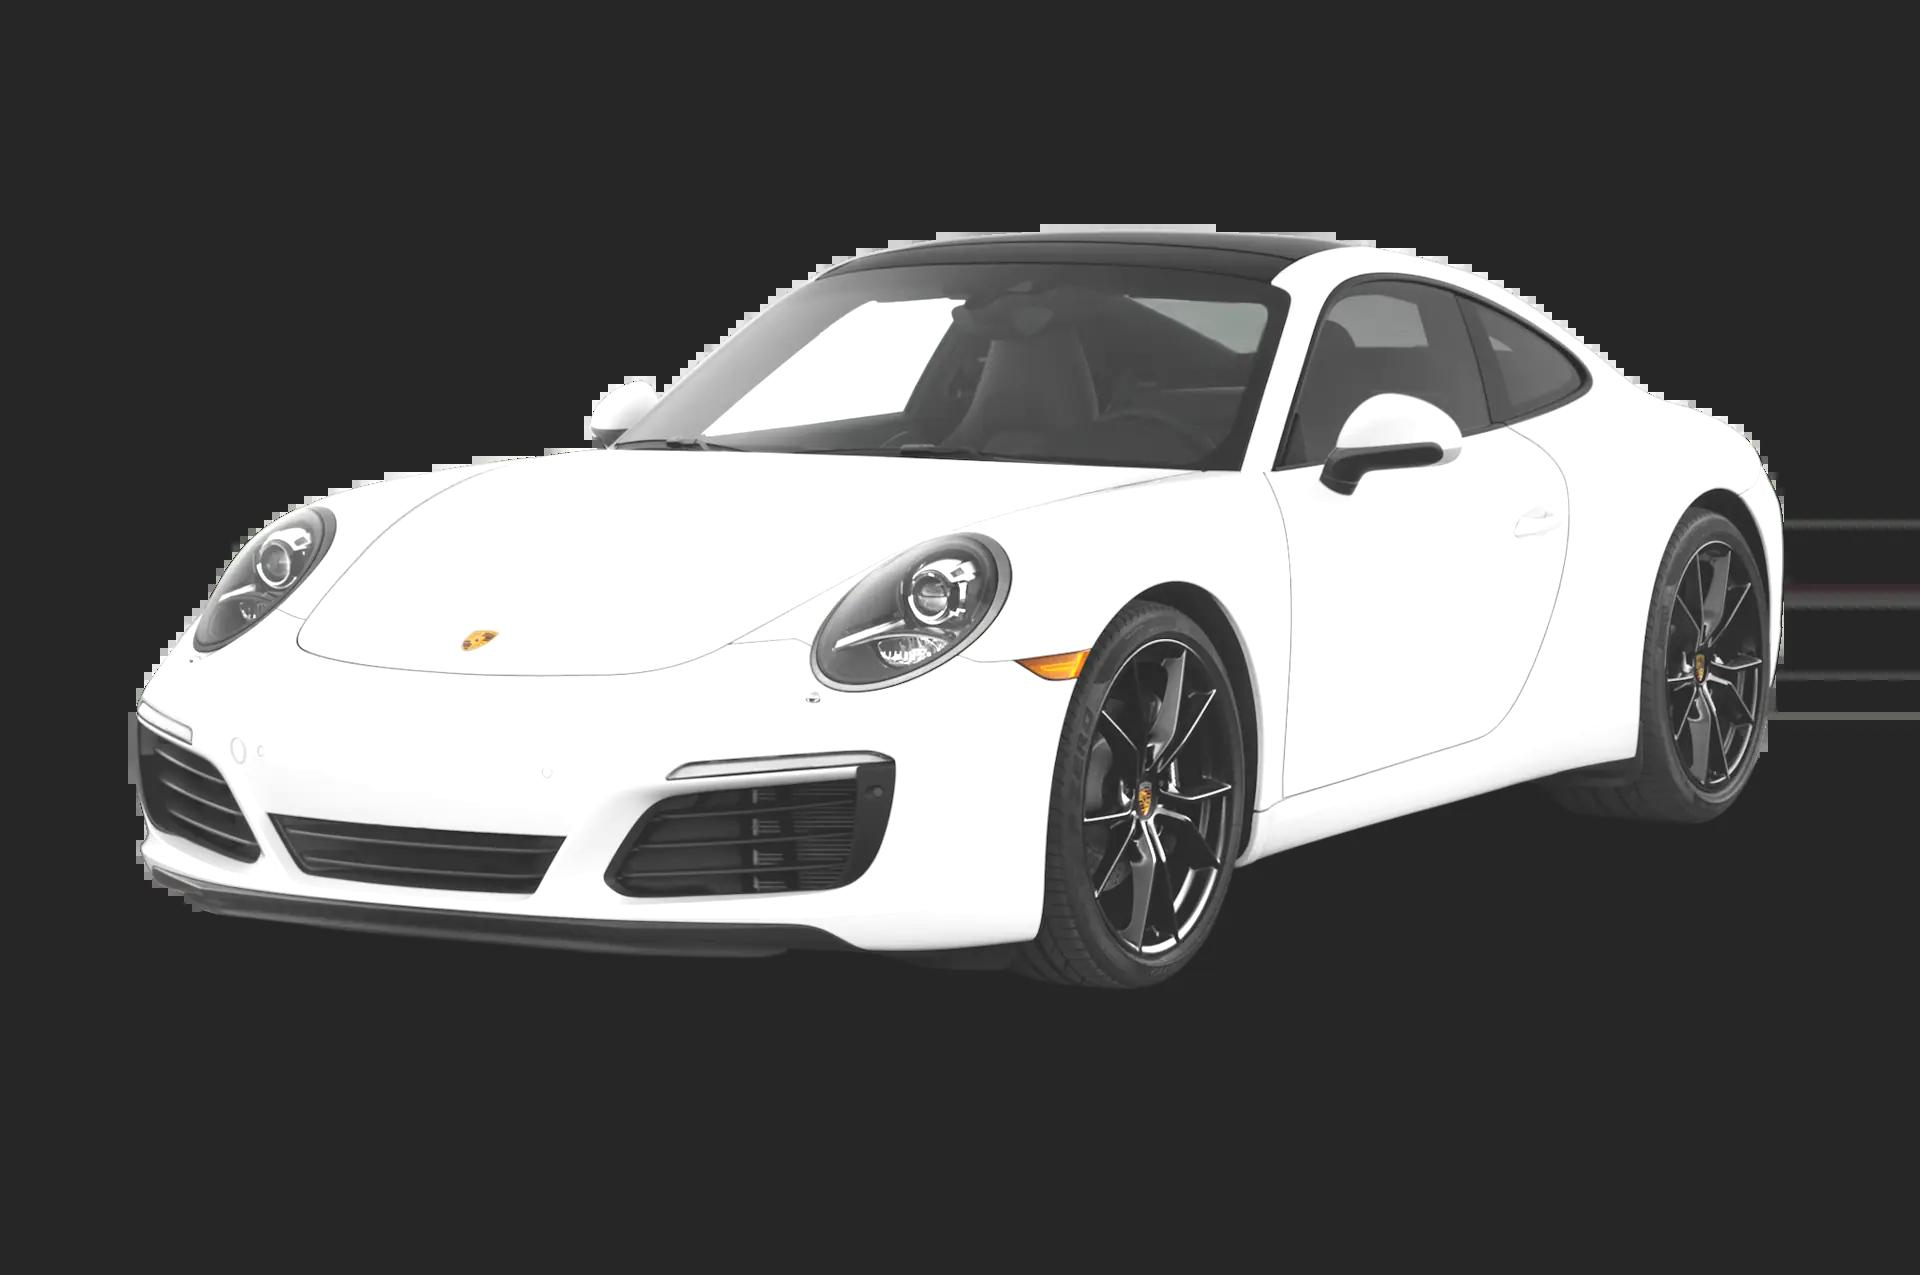porsche: (451, 615, 509, 657)
